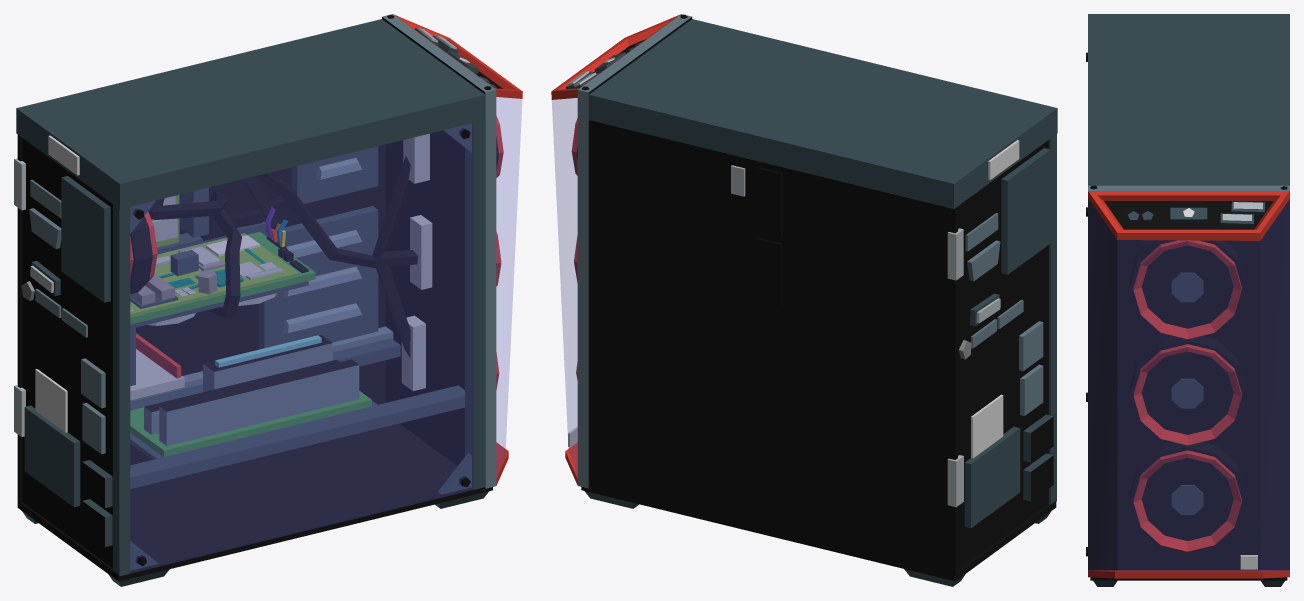
Rendered from Computer.glb.
3 views of the same model, side by side, from view 1: azimuth 30°, elevation 25°; view 2: azimuth 150°, elevation 25°; view 3: azimuth 270°, elevation 25° (orthographic). The views are drawn at different scales.
Visible parts, largest first — view 1: node_MeshObject-1148298240-PolyPaper21, node_MeshObject-1993294848-PolyGlass24, node_MeshObject-1421215744-PolyPaper16; view 2: node_MeshObject-1148298240-PolyPaper21, node_MeshObject-1421215744-PolyPaper16, node_MeshObject-1993294848-PolyGlass24; view 3: node_MeshObject-1148298240-PolyPaper21, node_MeshObject-1993294848-PolyGlass24, node_MeshObject-1421215744-PolyPaper16.
Boxes of the visible parts, x1,y1,x2,y2 form: node_MeshObject-1148298240-PolyPaper21: (14, 17, 508, 576); node_MeshObject-1993294848-PolyGlass24: (130, 97, 521, 572); node_MeshObject-1421215744-PolyPaper16: (17, 14, 522, 586); node_MeshObject-1148298240-PolyPaper21: (565, 17, 1057, 574); node_MeshObject-1421215744-PolyPaper16: (551, 14, 1056, 586); node_MeshObject-1993294848-PolyGlass24: (552, 98, 577, 476); node_MeshObject-1148298240-PolyPaper21: (1086, 14, 1289, 578); node_MeshObject-1993294848-PolyGlass24: (1088, 199, 1289, 575); node_MeshObject-1421215744-PolyPaper16: (1086, 185, 1289, 586).
Size of the model in its own units: 1.94 by 1.8 by 0.8278.
